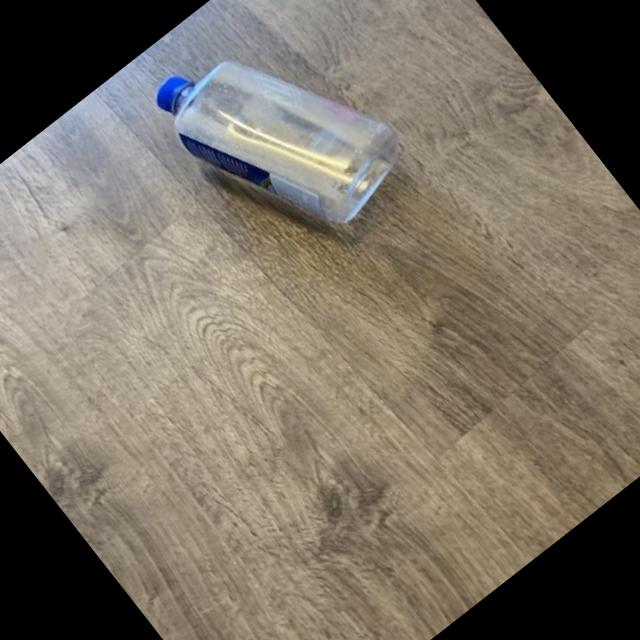BotolPlastik: (142, 0, 424, 275)
